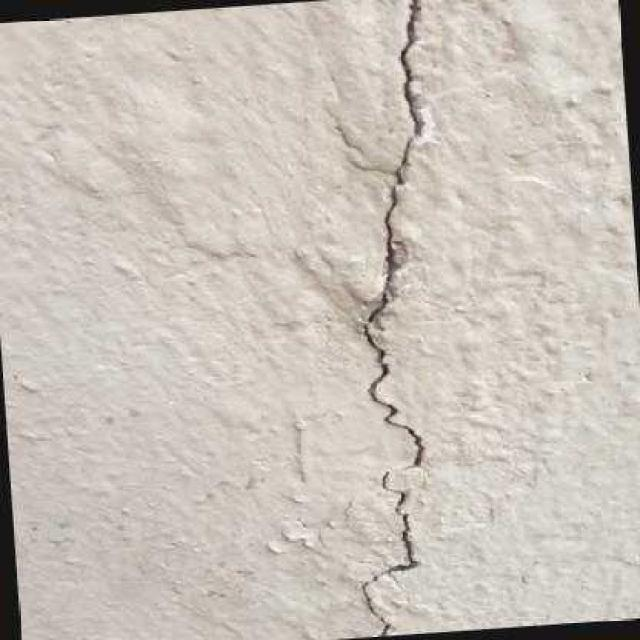D00: (352, 0, 430, 637)
